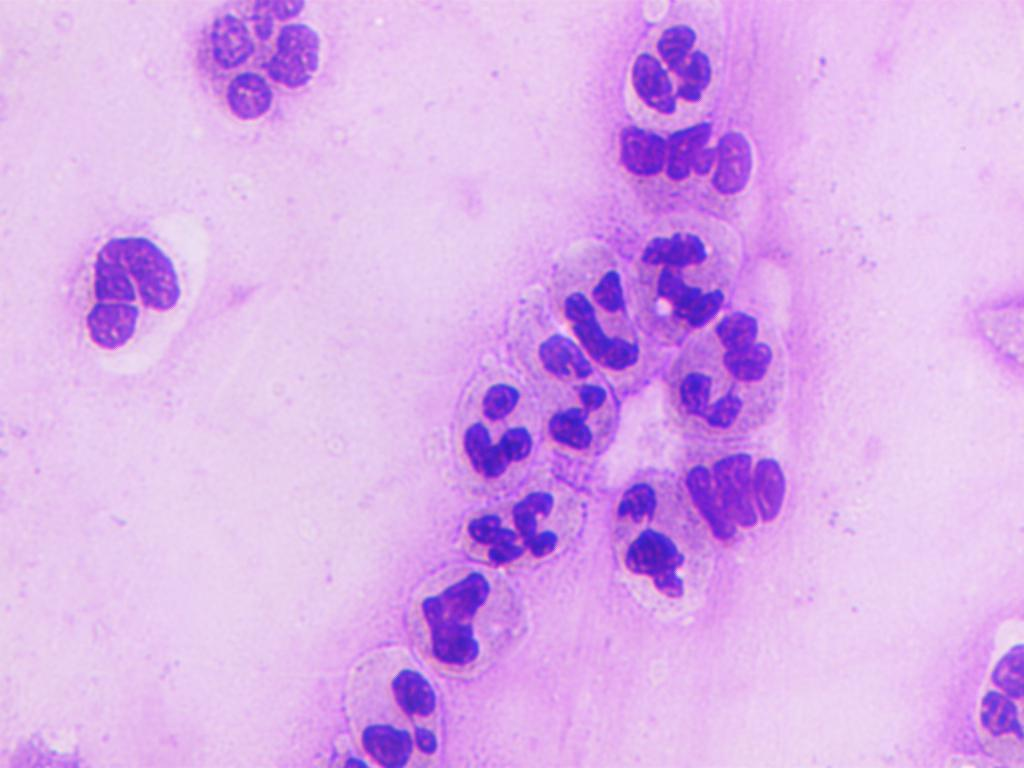neutrophil: (63, 202, 214, 389), (154, 0, 329, 130), (533, 234, 660, 396), (593, 100, 774, 204), (507, 319, 613, 482), (661, 312, 792, 441), (401, 562, 533, 689), (426, 477, 596, 570), (327, 645, 456, 767), (605, 466, 706, 616), (433, 351, 541, 488), (611, 3, 734, 123), (636, 204, 740, 343), (687, 449, 804, 541), (961, 602, 1024, 768)
